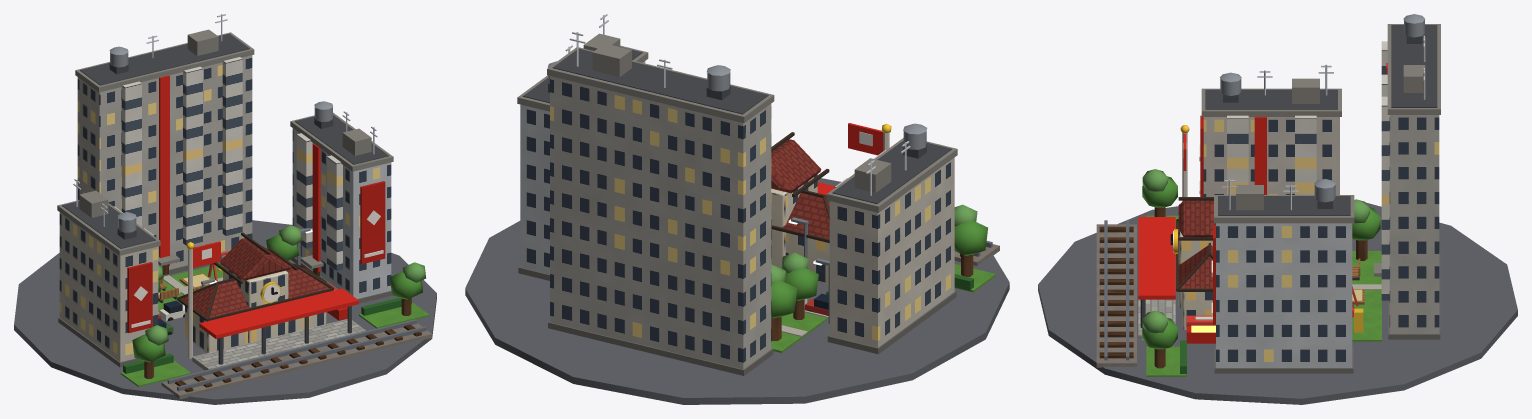
File: city_dl6_red.glb
3 renders of one model, left to right at view 1: azimuth 30°, elevation 25°; view 2: azimuth 150°, elevation 25°; view 3: azimuth 270°, elevation 25°, orthographic. The views are drawn at different scales.
Visible parts, largest first — view 1: city_dl6_red; view 2: city_dl6_red; view 3: city_dl6_red.
Boxes of the visible parts, x1,y1,x2,y2 form: city_dl6_red: [14, 14, 436, 404]; city_dl6_red: [465, 14, 1009, 404]; city_dl6_red: [1038, 14, 1517, 404].
Bounding box in the file's own units: 1.55 × 0.952 × 1.55.
Materials: 3 (1 with a texture image).
